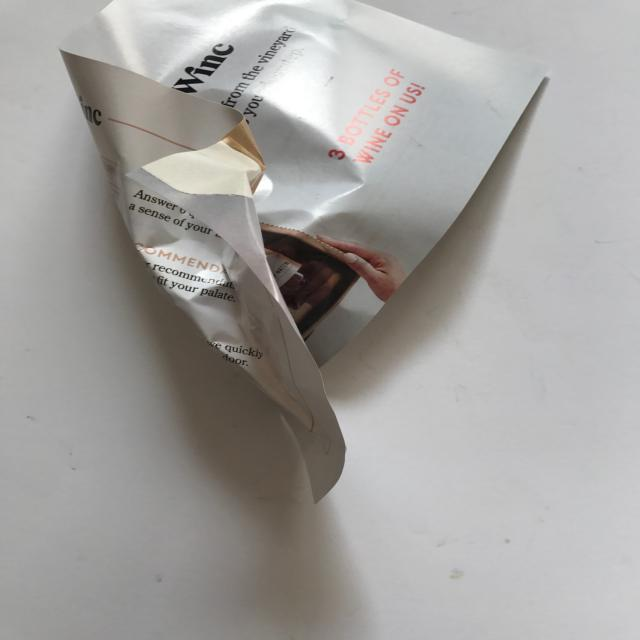paper: (54, 1, 552, 507)
